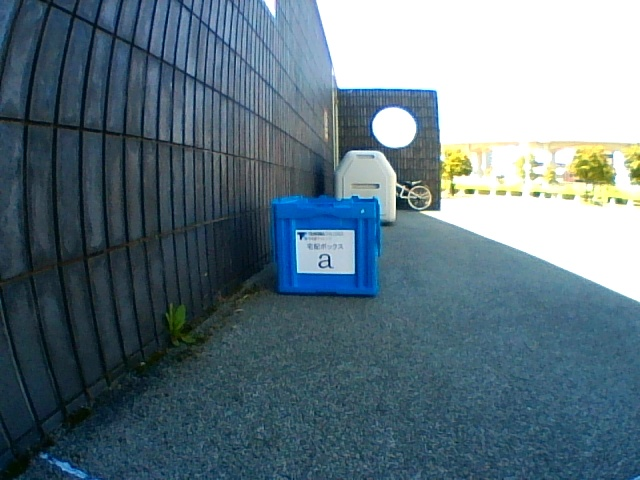blue_box: (269, 195, 381, 295)
tag_a: (298, 231, 354, 271)
